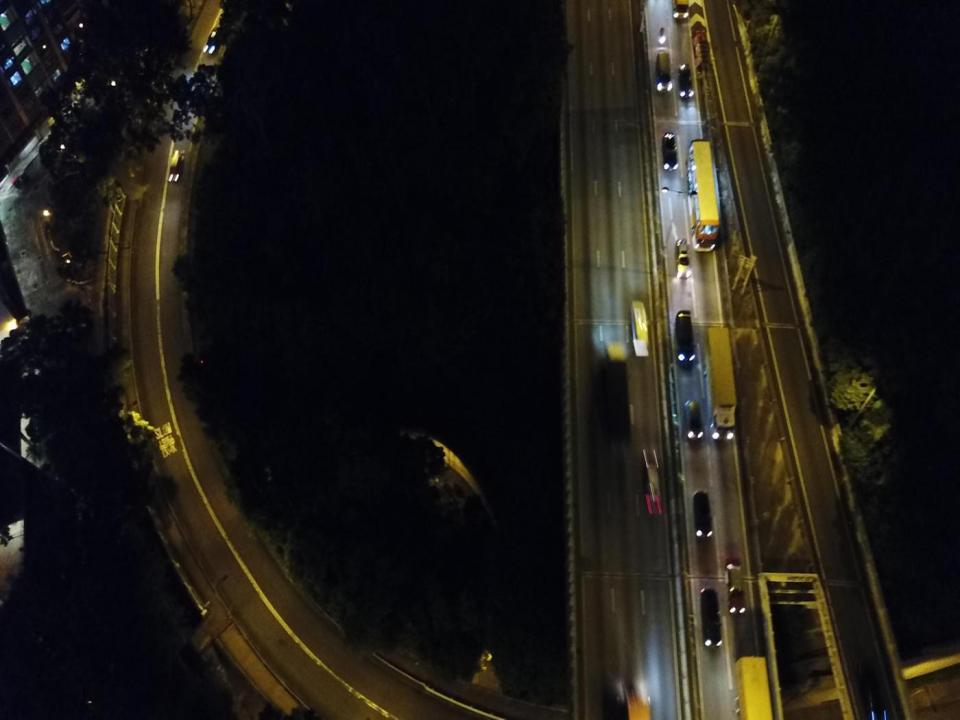bus: (684, 138, 719, 253)
car: (700, 586, 723, 647), (723, 555, 746, 615), (675, 309, 697, 364), (630, 299, 650, 354), (692, 488, 713, 538), (684, 400, 704, 441), (661, 130, 679, 172), (675, 238, 691, 280), (678, 62, 695, 101), (203, 26, 223, 56), (169, 149, 183, 184)
truck: (704, 326, 736, 440), (732, 654, 775, 719)
van: (656, 51, 672, 93)
